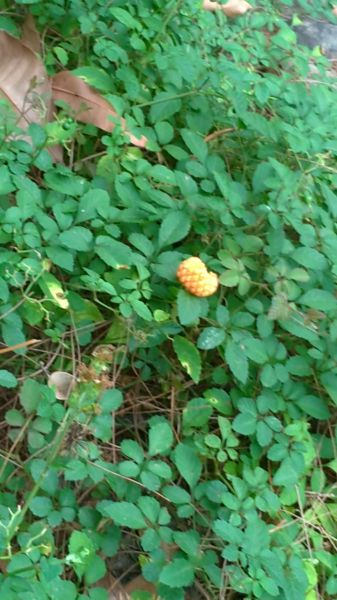eggs: (172, 249, 223, 301)
